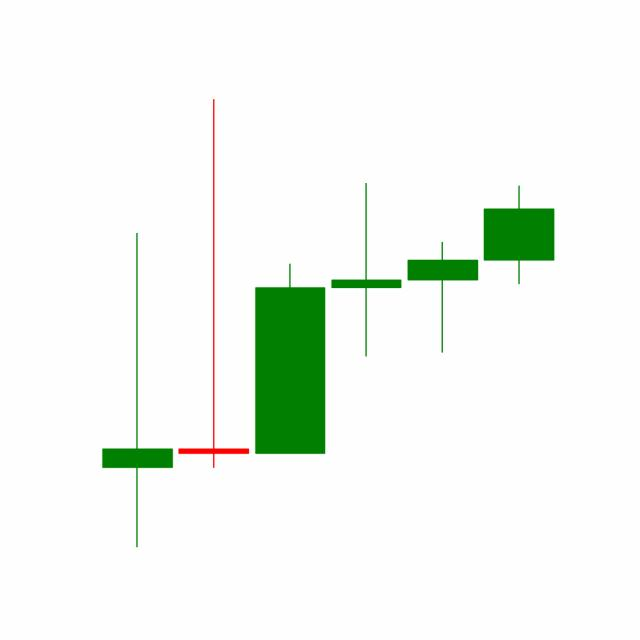Dragonfly Doji: (403, 240, 481, 354)
